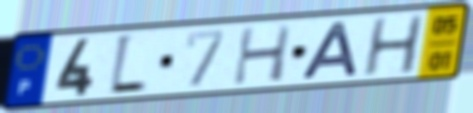4: (52, 36, 96, 99)
7: (182, 27, 227, 91)
A: (299, 19, 362, 82)
H: (359, 12, 426, 78), (230, 22, 295, 87)
L: (106, 32, 150, 98)
